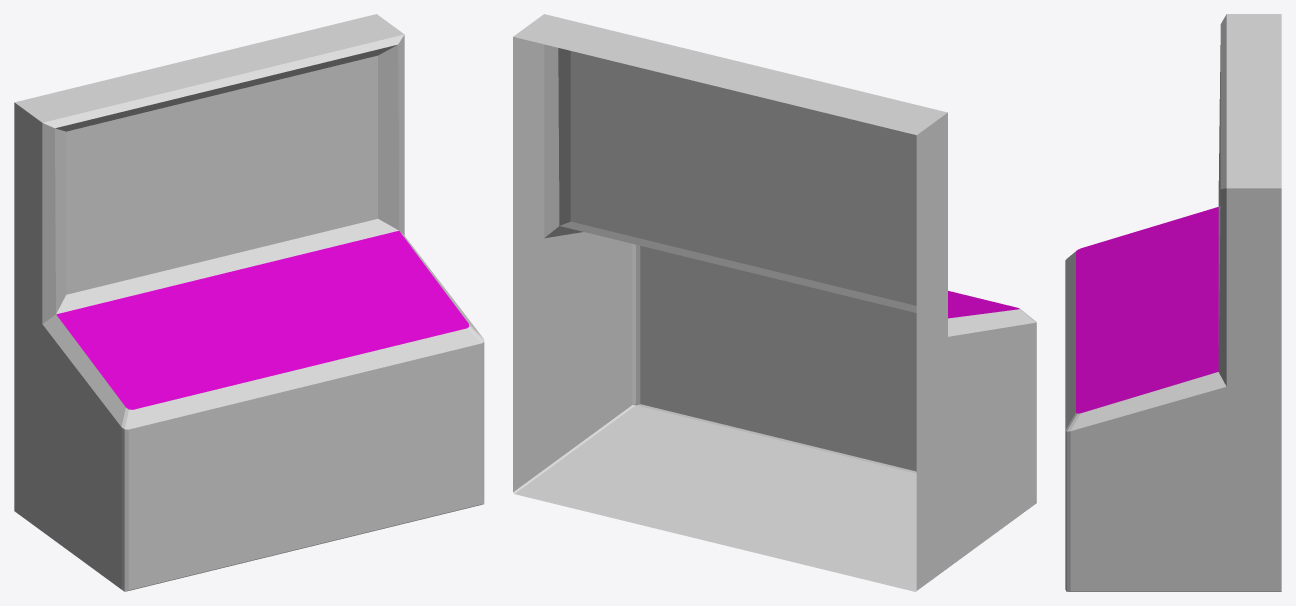
File: Console_Low.fbx
3 views of the same model, side by side, from view 1: azimuth 30°, elevation 25°; view 2: azimuth 150°, elevation 25°; view 3: azimuth 270°, elevation 25° (orthographic). The views are drawn at different scales.
Parts seen in each view (by area): view 1: Computer; view 2: Computer; view 3: Computer.
Part boxes in pixels (x1,y1,x2,y2): Computer: [14, 14, 484, 591]; Computer: [513, 14, 1036, 591]; Computer: [1065, 14, 1281, 591].
Bounding box in the file's own units: 248 × 268 × 130.
